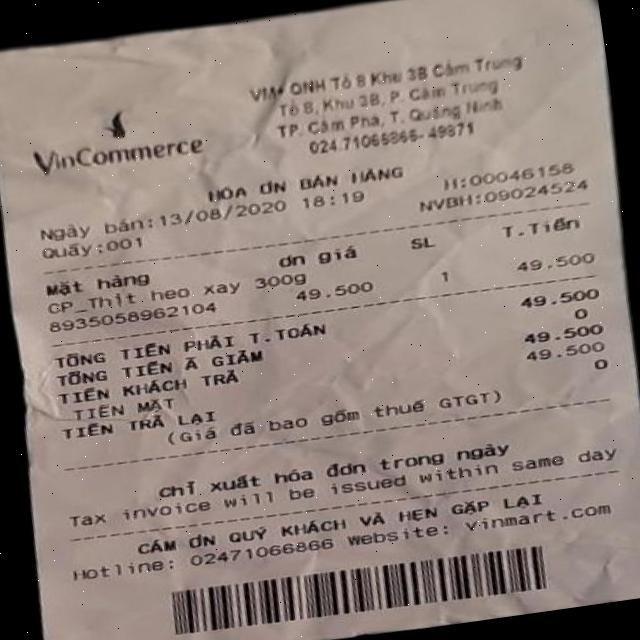Date: (158, 194, 291, 232)
Store_Name: (27, 118, 220, 186)
amount_number: (518, 279, 604, 312)
label_total: (57, 315, 334, 376)
